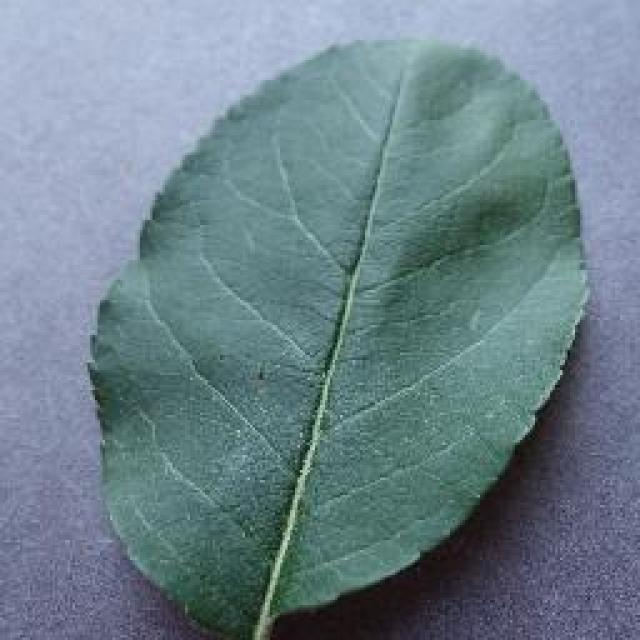apple healthy: (82, 32, 592, 638)
